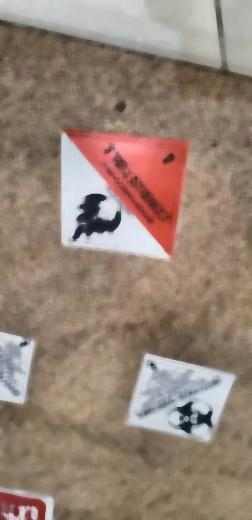infectious-substance: (126, 351, 237, 443), (1, 333, 38, 407)
spontaneously-combustible: (62, 131, 186, 259)
